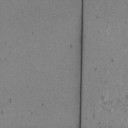surface scratch: (77, 0, 84, 128)
